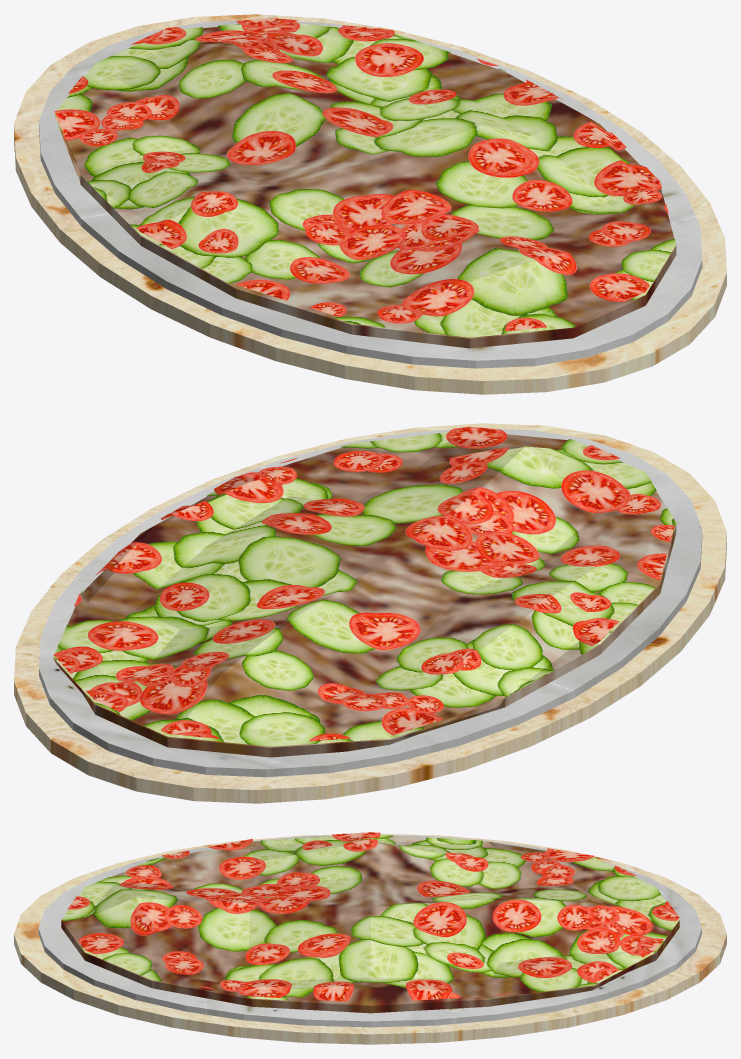
The model's file is ClasicShwarmaOpen.fbx.
3 views of the same model, one above another, from view 1: azimuth 30°, elevation 25°; view 2: azimuth 150°, elevation 25°; view 3: azimuth 270°, elevation 25° (orthographic). The views are drawn at different scales.
Parts seen in each view (by area): view 1: Куб.001, Куб, Куб.002, Цилиндр, Цилиндр.001; view 2: Куб.001, Куб, Куб.002, Цилиндр, Цилиндр.001; view 3: Куб.001, Куб, Куб.002, Цилиндр, Цилиндр.001.
Boxes of the visible parts, x1=… form: Куб.001: x1=54, y1=23, x2=676, y2=337; Куб: x1=54, y1=27, x2=676, y2=348; Куб.002: x1=54, y1=17, x2=668, y2=331; Цилиндр: x1=14, y1=14, x2=726, y2=394; Цилиндр.001: x1=39, y1=20, x2=702, y2=368; Куб.001: x1=53, y1=432, x2=675, y2=746; Куб: x1=53, y1=434, x2=676, y2=757; Куб.002: x1=53, y1=426, x2=674, y2=741; Цилиндр: x1=14, y1=423, x2=726, y2=803; Цилиндр.001: x1=39, y1=428, x2=702, y2=777; Куб.001: x1=61, y1=835, x2=679, y2=1000; Куб: x1=61, y1=836, x2=679, y2=1013; Куб.002: x1=67, y1=832, x2=679, y2=1001; Цилиндр: x1=14, y1=833, x2=726, y2=1044; Цилиндр.001: x1=38, y1=834, x2=701, y2=1027.
Size of the model in its own units: 200 by 22.55 by 300.
